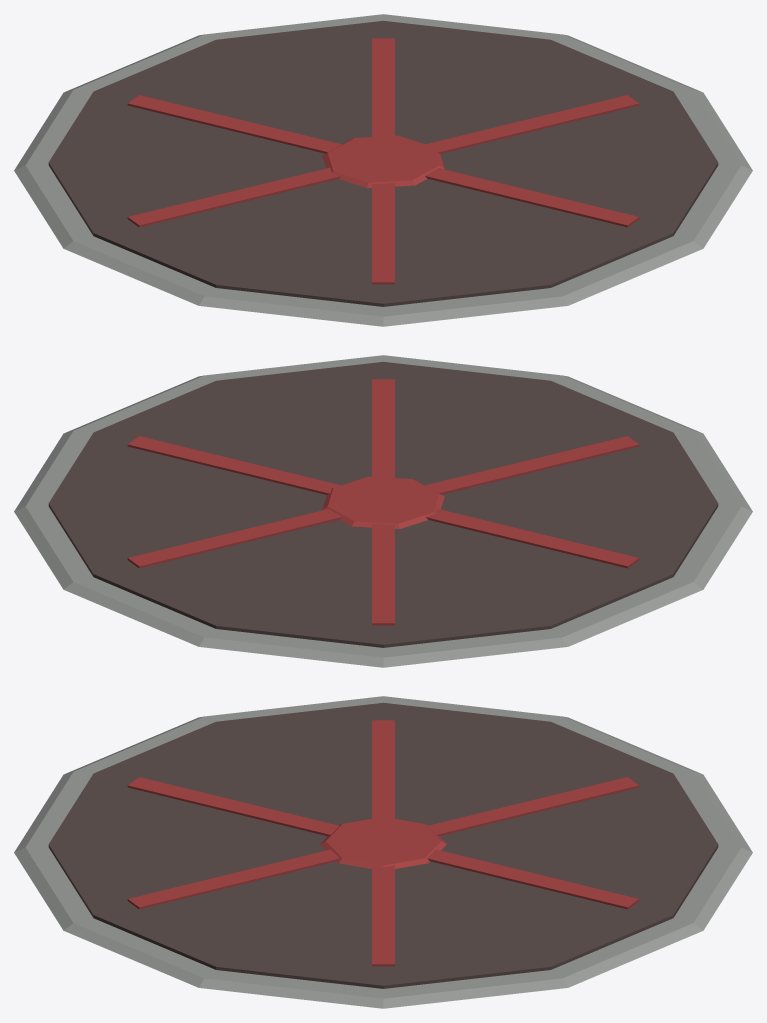
File: ritual_circle.glb
The picture shows the model from 3 angles, top to bottom: view 1: azimuth 30°, elevation 25°; view 2: azimuth 150°, elevation 25°; view 3: azimuth 270°, elevation 25°; orthographic projection.
Parts seen in each view (by area): view 1: ritual_circle; view 2: ritual_circle; view 3: ritual_circle.
Part boxes in pixels (bbox=[...]): ritual_circle: bbox=[14, 14, 752, 326]; ritual_circle: bbox=[14, 355, 752, 667]; ritual_circle: bbox=[14, 696, 752, 1008].
Size of the model in its own units: 6.4 by 0.11 by 6.4.
